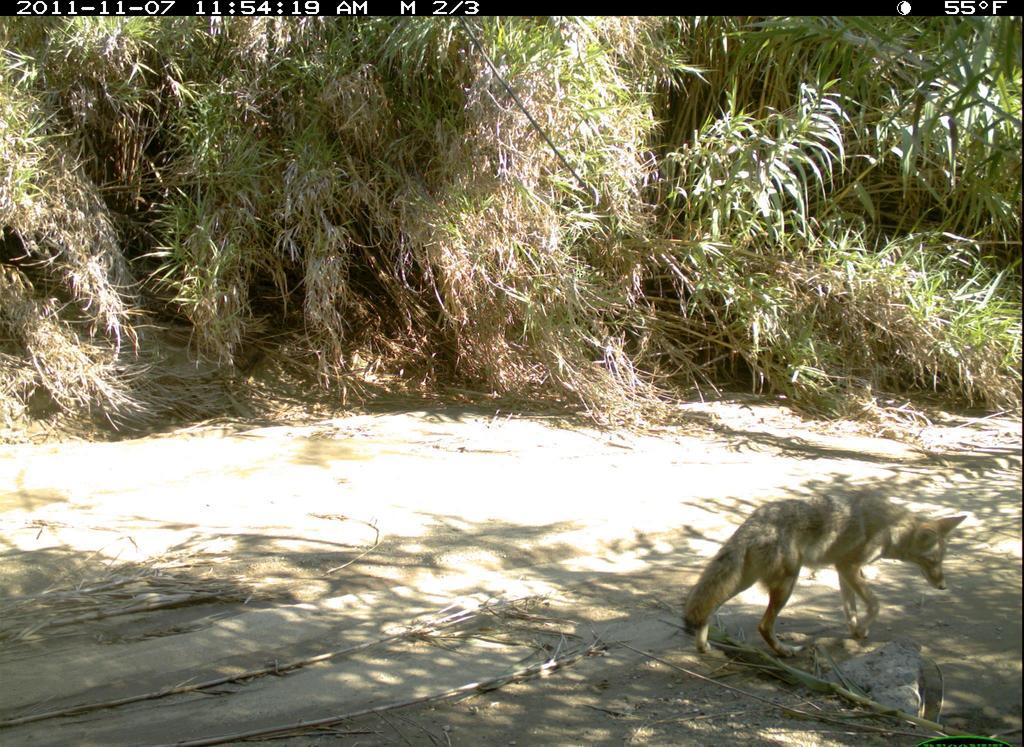coyote: (674, 483, 971, 667)
